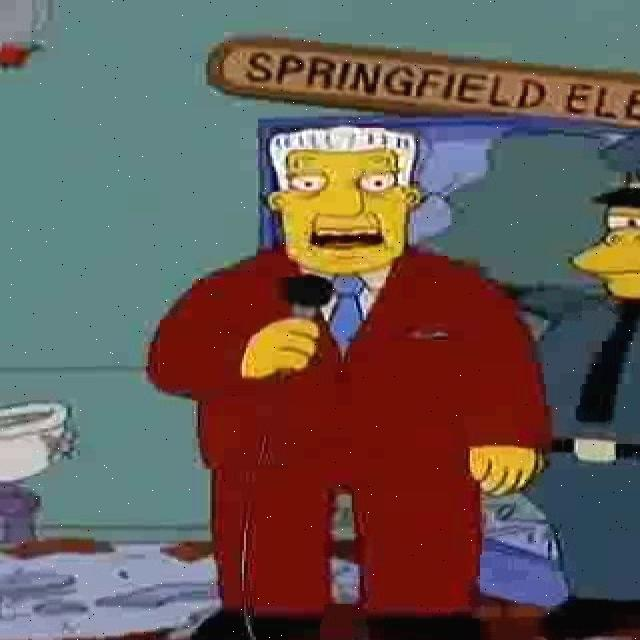Kent Brockman: (265, 125, 427, 275)
